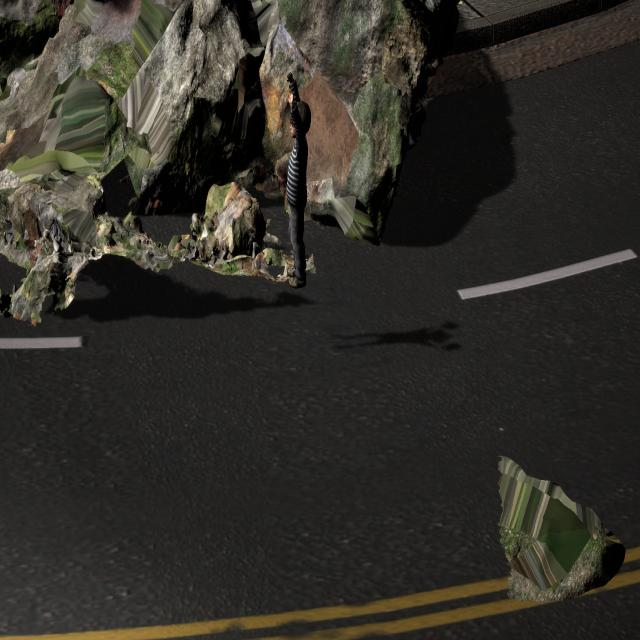Human: (280, 67, 318, 296)
